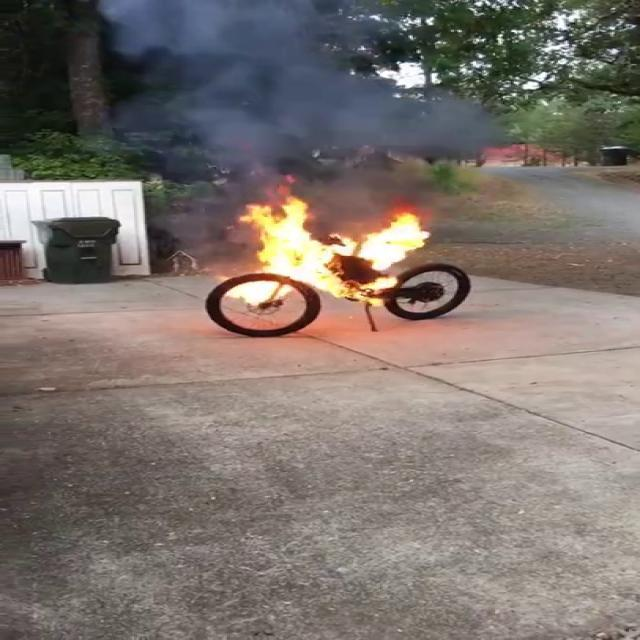Fire: (224, 188, 438, 302)
Smoke: (86, 0, 458, 183)
